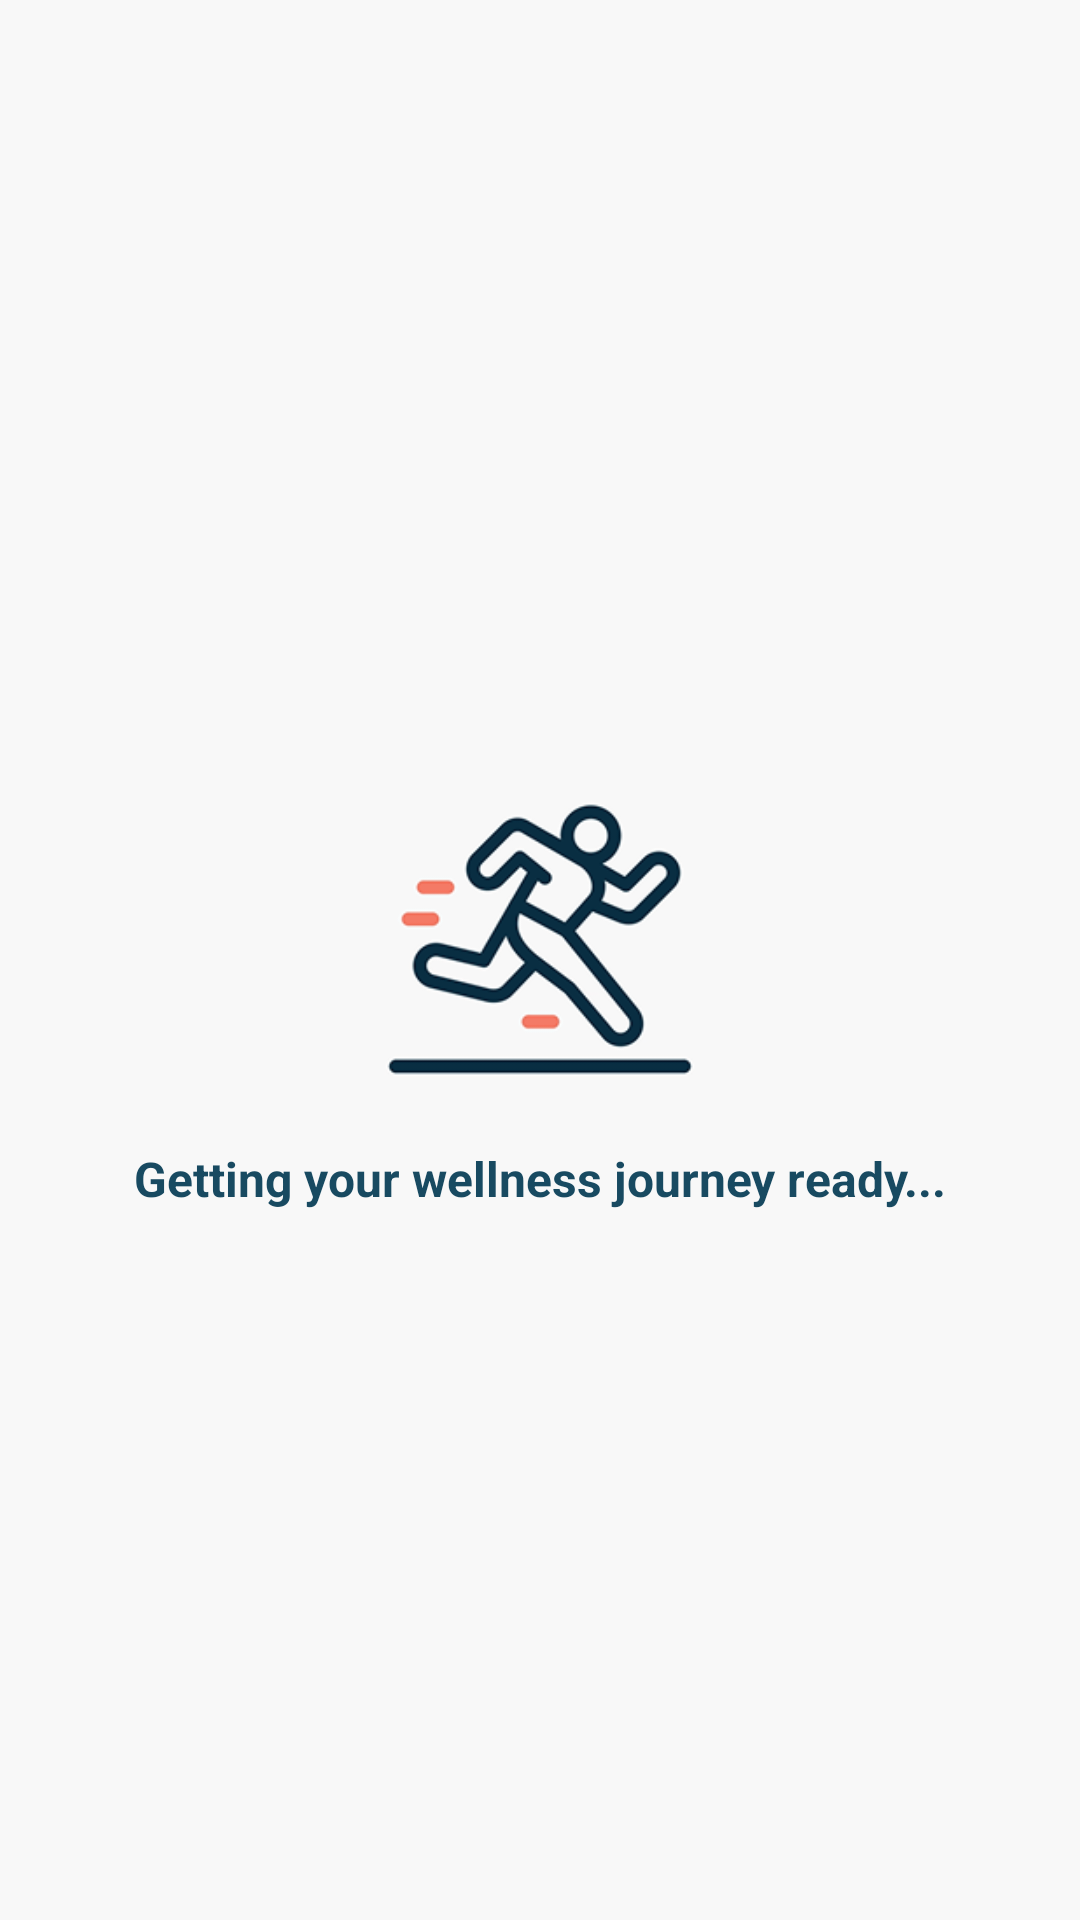

Icon click points for this 1080 x 1920 phone screenshot, format (x,y):
running: (540,939)
